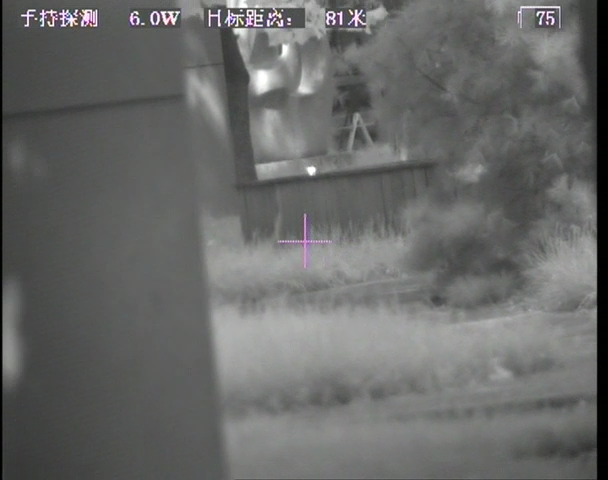my: (305, 163, 319, 179)
